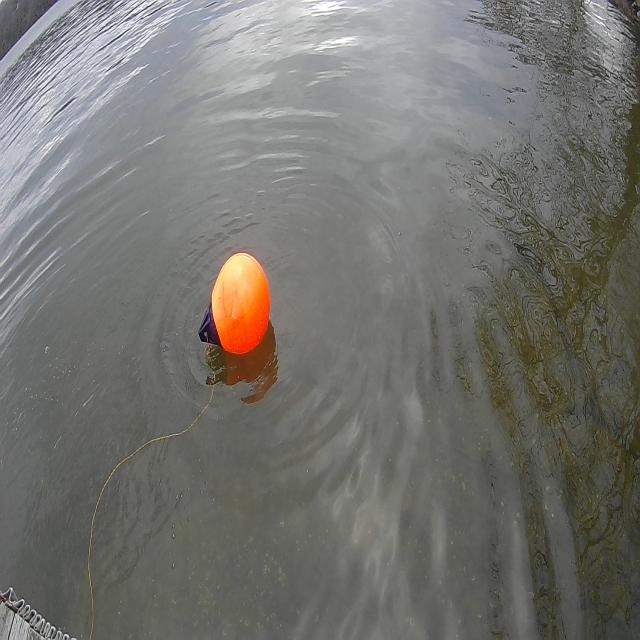Buoy: (193, 239, 274, 375)
